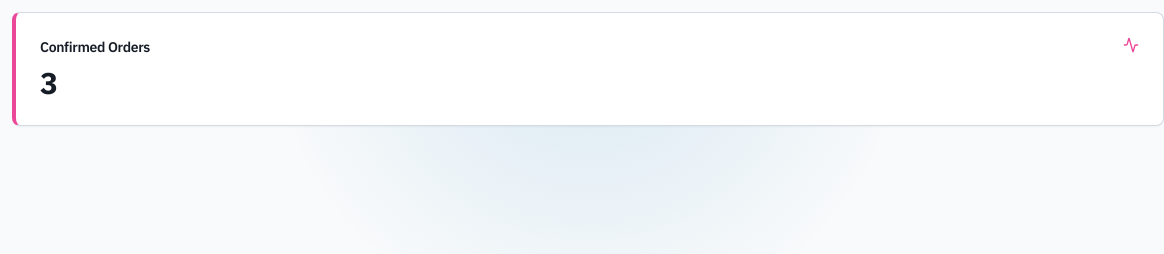
Test: AccentKpiCard drilldown › renders as button and navigates when drilldown is provided
Click the button "Confirmed Orders 3" at [95, 47], box [12,12,1163,126]
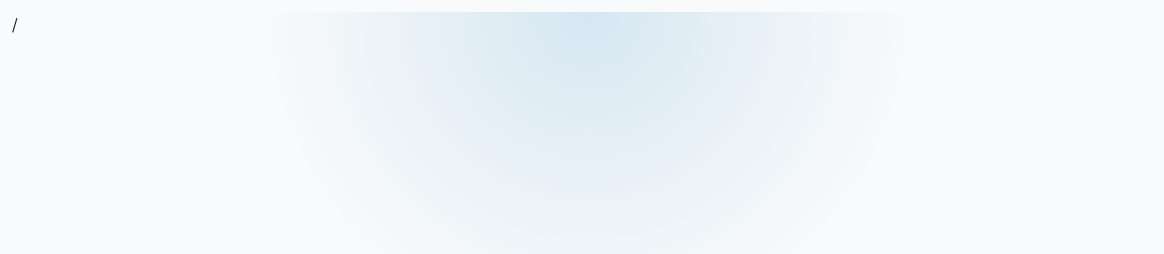
Check: the button "Confirmed Orders" is gone
